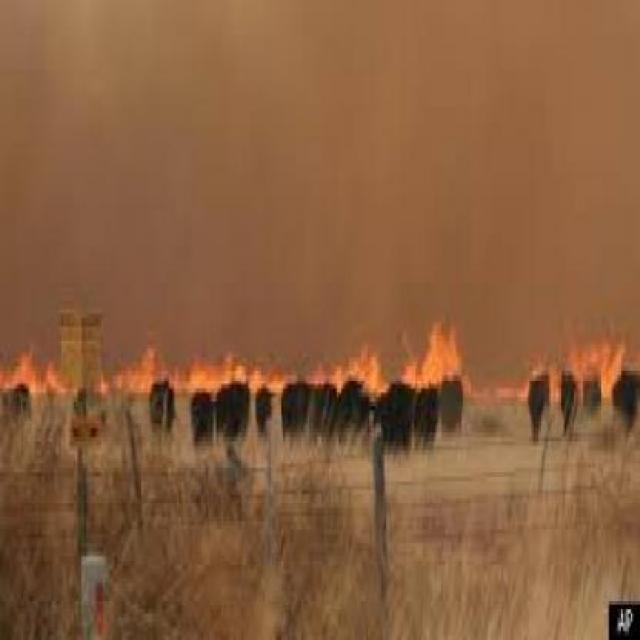Fire: (59, 316, 625, 412)
Smoke: (0, 0, 637, 308)
